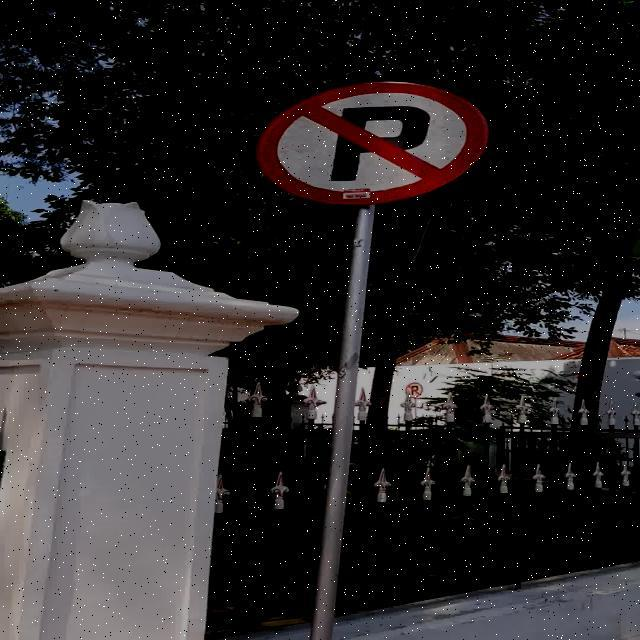Dilarang Parkir: (254, 81, 490, 205)
